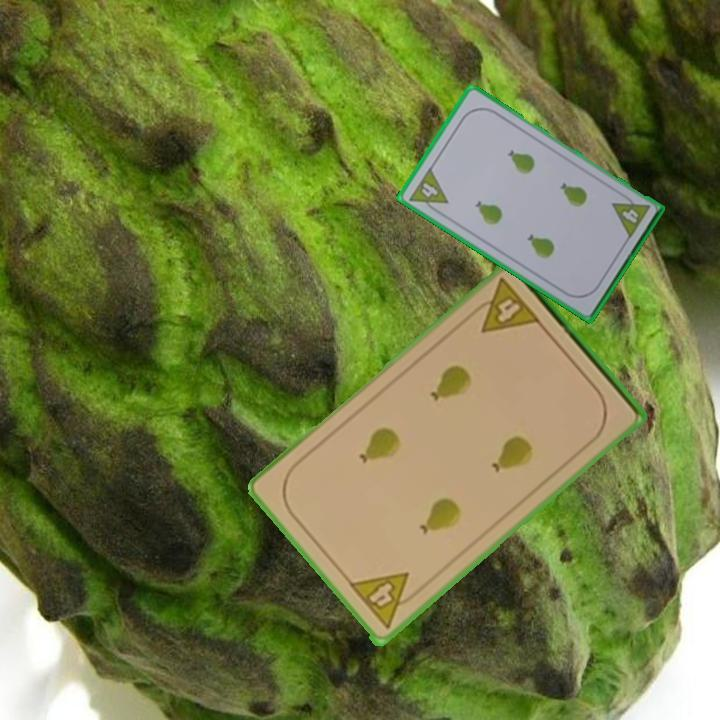4p: (345, 568, 424, 632), (465, 274, 544, 337), (405, 164, 451, 218), (608, 189, 652, 242)
